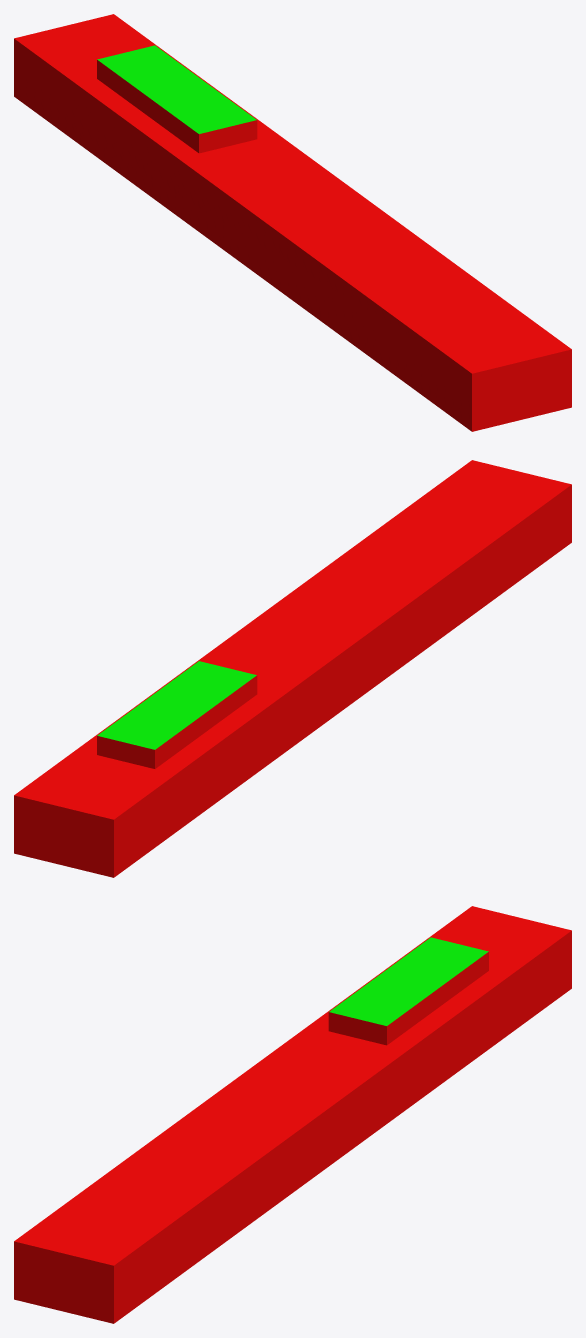
Rendered from labeled.obj.
3 views of the same model, one above another, from view 1: azimuth 30°, elevation 25°; view 2: azimuth 150°, elevation 25°; view 3: azimuth 330°, elevation 25° (orthographic).
Size of the model in its own units: 0.0177 by 0.0131 by 0.1406.
